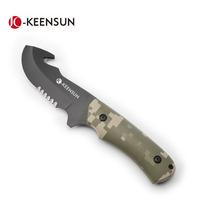knife: (19, 41, 174, 181)
